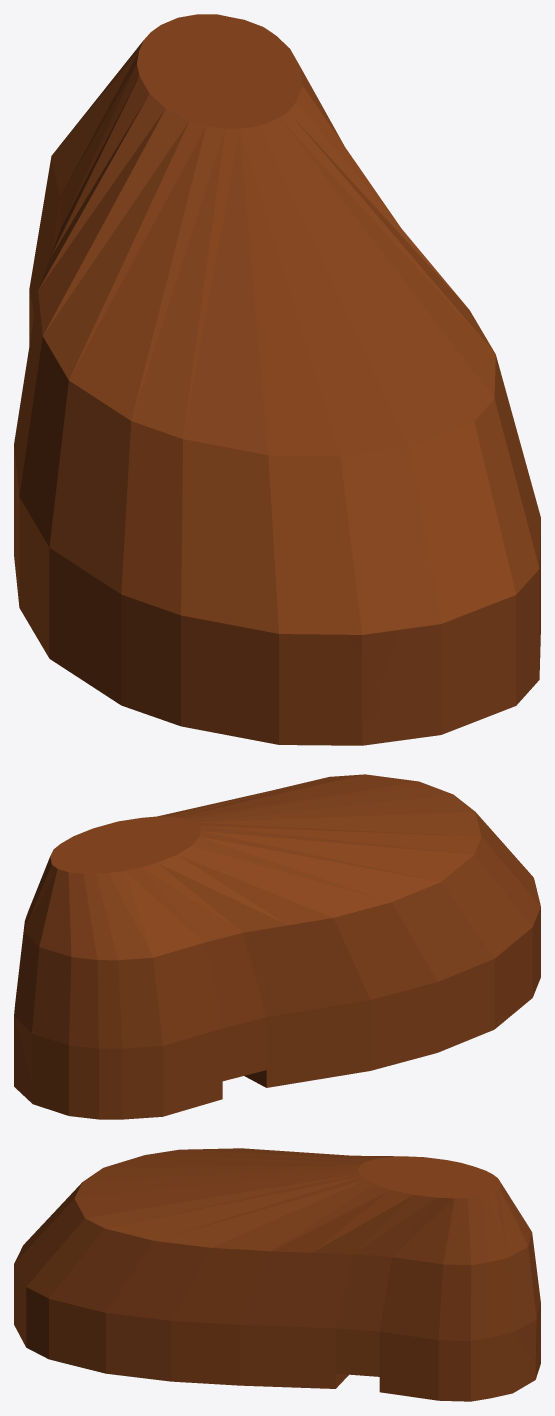
File: player_shoesR.obj
The picture shows the model from 3 angles, top to bottom: view 1: azimuth 30°, elevation 25°; view 2: azimuth 150°, elevation 25°; view 3: azimuth 270°, elevation 25°; orthographic projection. The views are drawn at different scales.
Visible parts, largest first — view 1: 右足_立方体.009; view 2: 右足_立方体.009; view 3: 右足_立方体.009.
Boxes of the visible parts, box(x1,y1,x2,y2) form: 右足_立方体.009: box(14, 14, 540, 745); 右足_立方体.009: box(14, 774, 540, 1119); 右足_立方体.009: box(14, 1148, 540, 1401).
Bounding box in the file's own units: 1.46 × 0.9591 × 2.41.
Materials: 1 (1 with a texture image).
